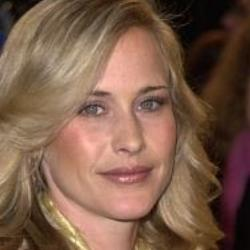face: (3, 5, 228, 245)
